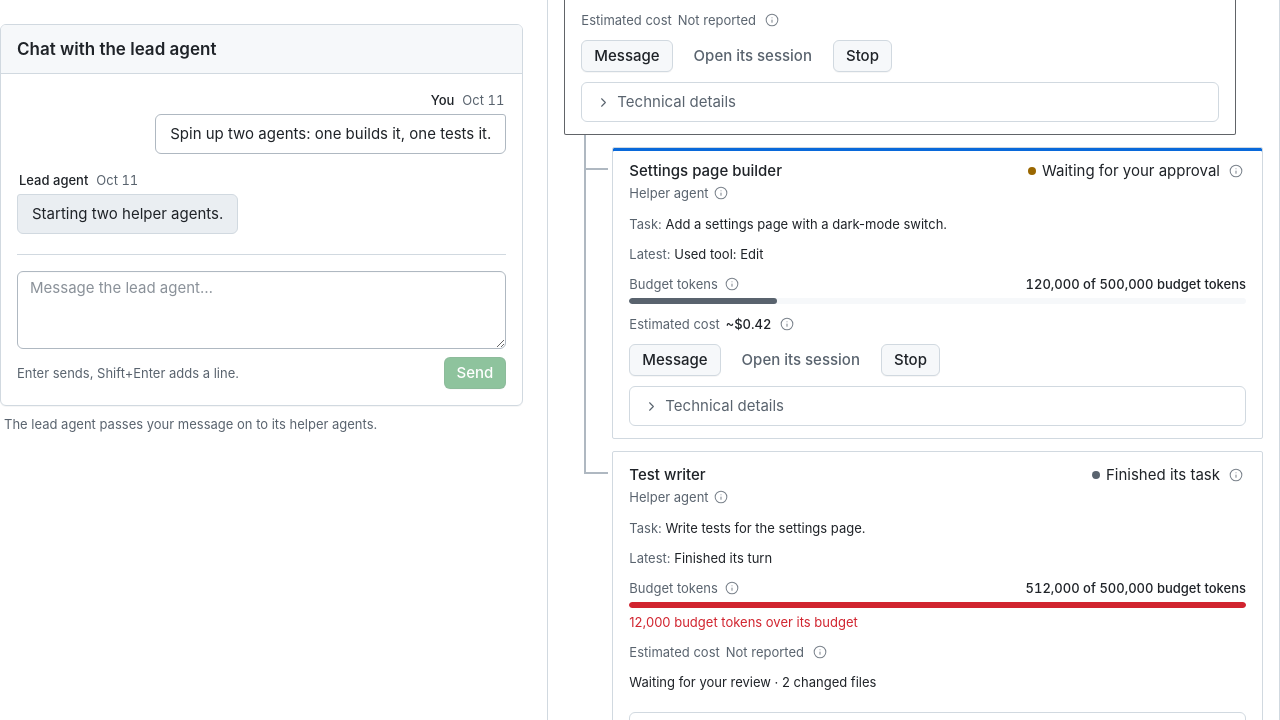
control panel: a run › Message on a helper agent prefills the chat to the lead
The width and height of the screenshot is (1280, 720).
(page scrolled)
Click the button "Message" below "$0.42" at (675, 360), box [629,344,721,376]
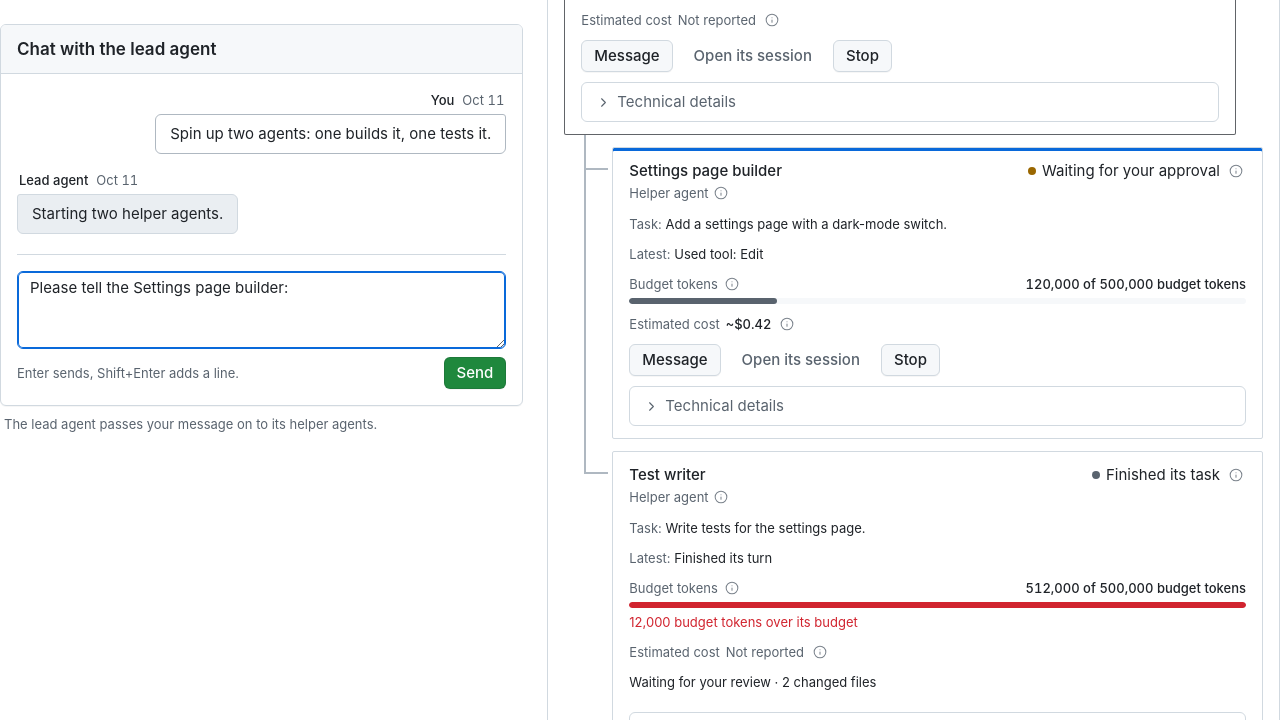
expect the text box named "Message to the lead agent" holds "Please tell the Settings page builder: ": met, box [17,271,506,349]
